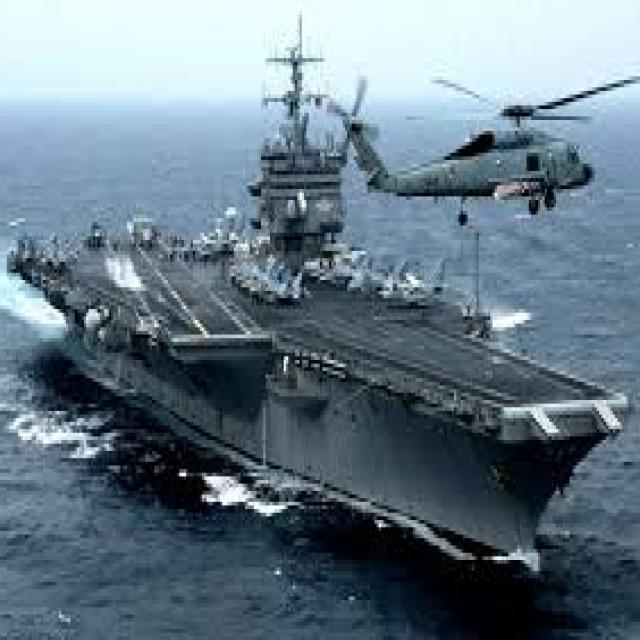navalvessels: (6, 36, 622, 568)
